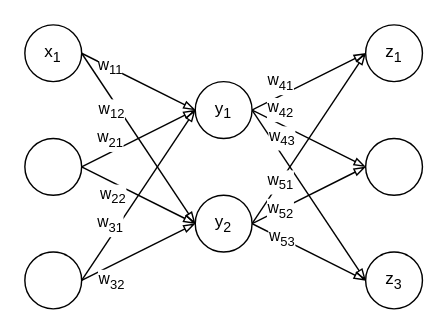
This 447x334 diagram has some shape labels left out. The box of each missing label's shape, as (x1, y1, x2, y2) in pixels:
x 2: (23, 137, 82, 195)
x 3: (23, 251, 82, 309)
z 2: (364, 137, 422, 195)
